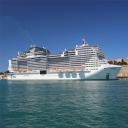cruises: (8, 38, 124, 85)
